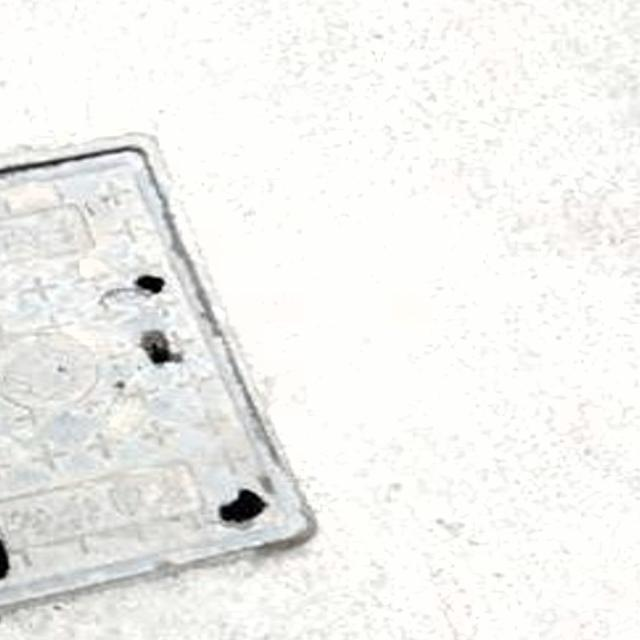broke: (0, 132, 327, 624)
